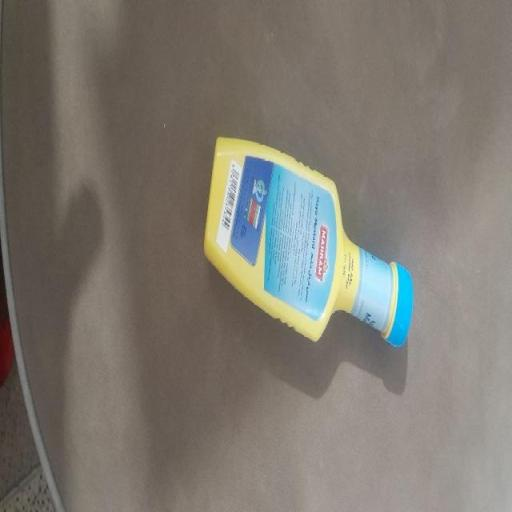plastic: (204, 133, 414, 355)
